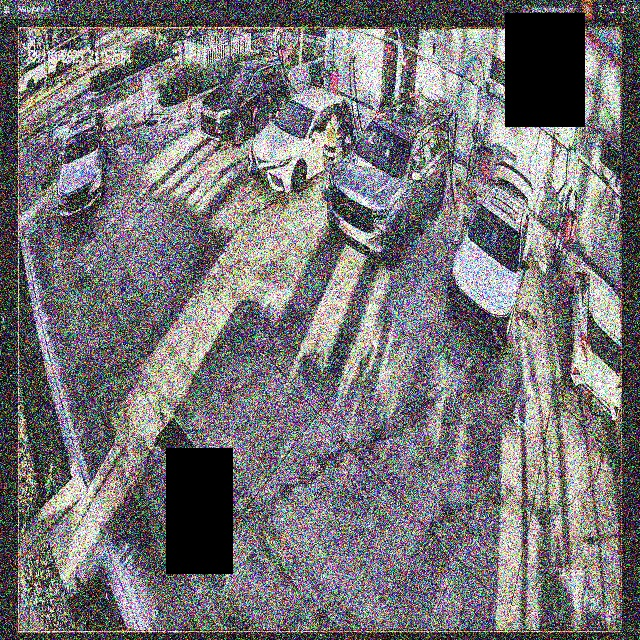Car: (328, 99, 449, 267), (448, 155, 533, 347), (248, 89, 361, 196), (199, 55, 289, 145)
